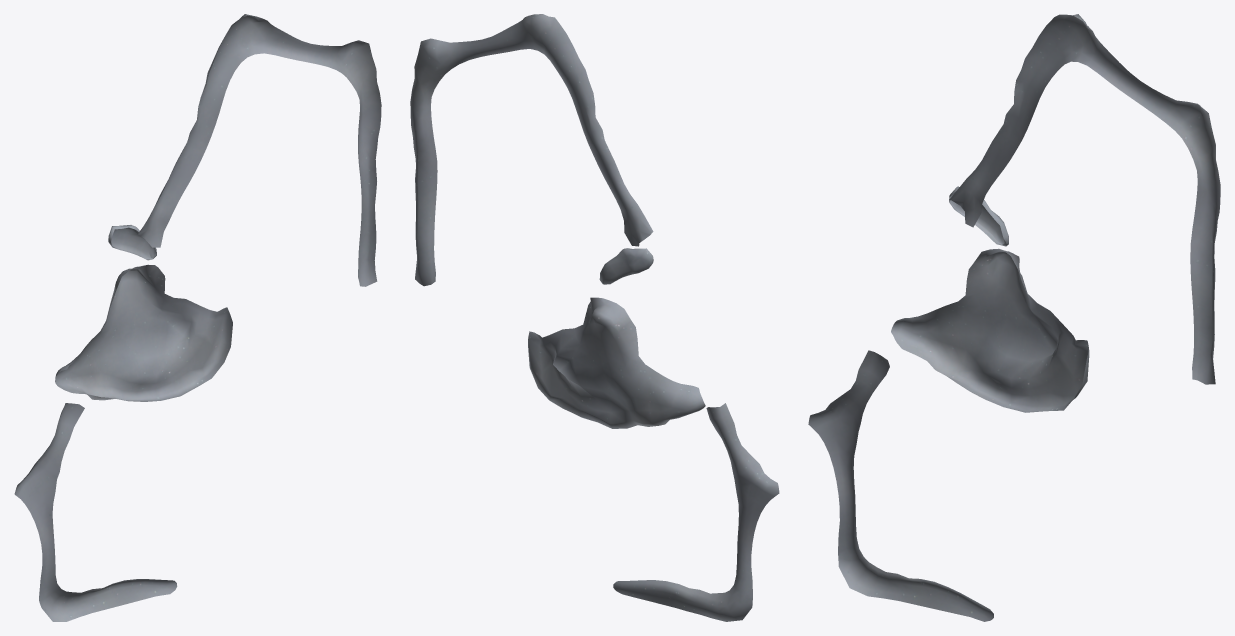
Rendered from pref_sm_beach_winter_center_snow02_lv3.fbx.
3 views of the same model, side by side, from view 1: azimuth 30°, elevation 25°; view 2: azimuth 150°, elevation 25°; view 3: azimuth 330°, elevation 25° (orthographic). The views are drawn at different scales.
Visible parts, largest first — view 1: pref_sm_beach_winter_center_snow02_lv3; view 2: pref_sm_beach_winter_center_snow02_lv3; view 3: pref_sm_beach_winter_center_snow02_lv3.
Boxes of the visible parts, x1,y1,x2,y2 form: pref_sm_beach_winter_center_snow02_lv3: (14, 14, 381, 621); pref_sm_beach_winter_center_snow02_lv3: (410, 14, 779, 621); pref_sm_beach_winter_center_snow02_lv3: (808, 14, 1220, 621).
Size of the model in its own units: 10.98 by 16.03 by 1.91.
